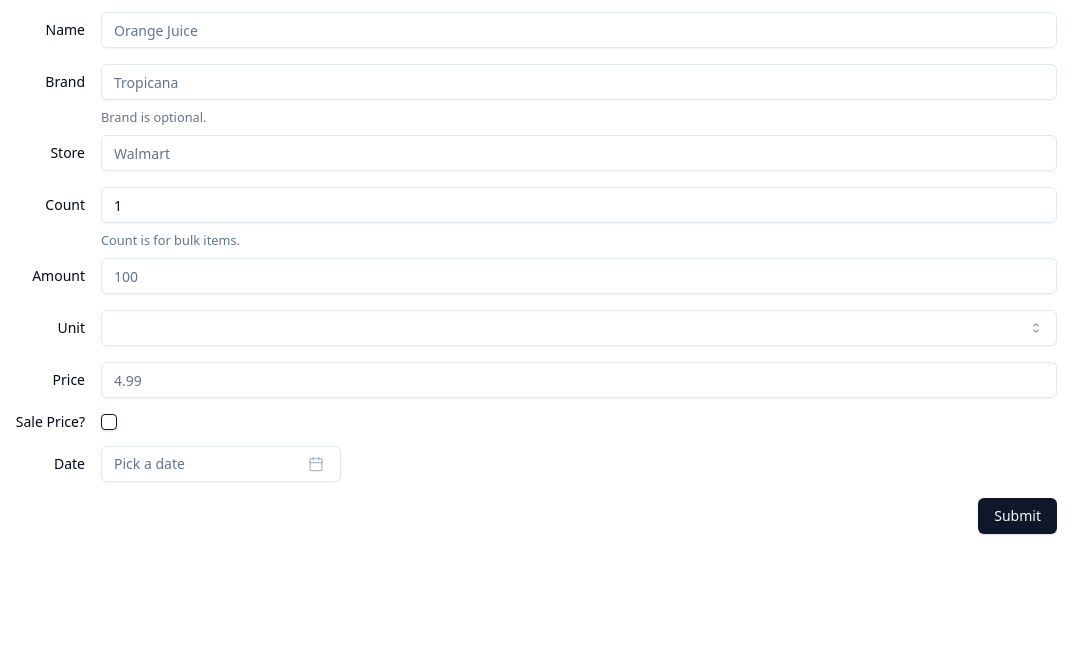
AddItemForm › validation › string field › shows correct error messages for non-nullable empty field
Click the button "Submit": click(1018, 516) [978,498,1057,534]
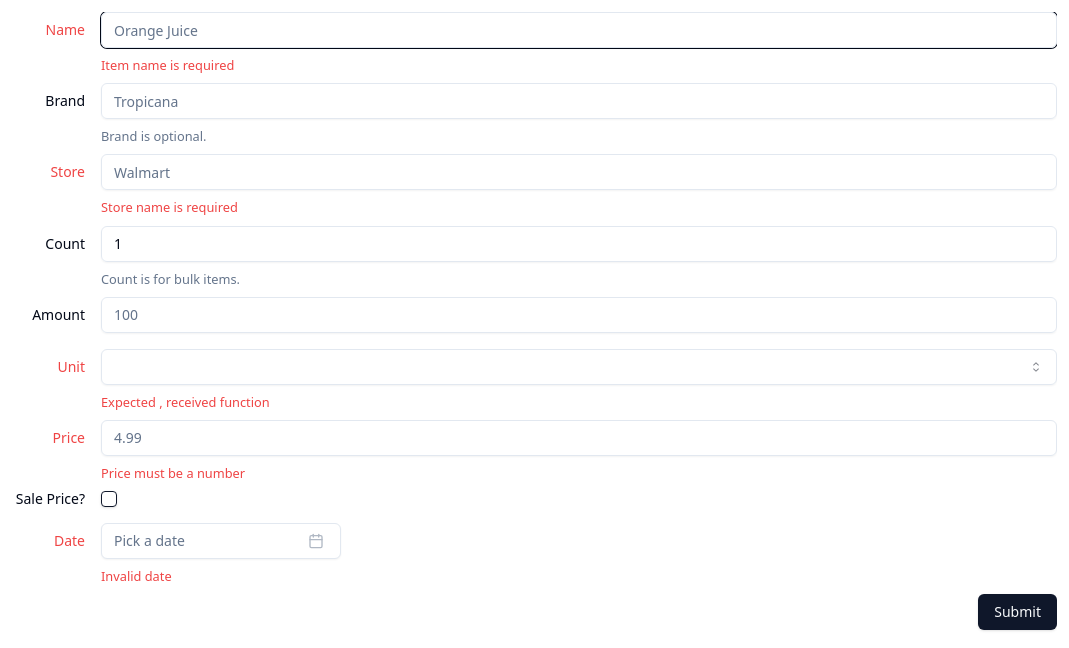
Now the text "Item name is required" is shown, box [101,56,234,74]
Now the text "Store name is required" is shown, box [101,198,238,216]
